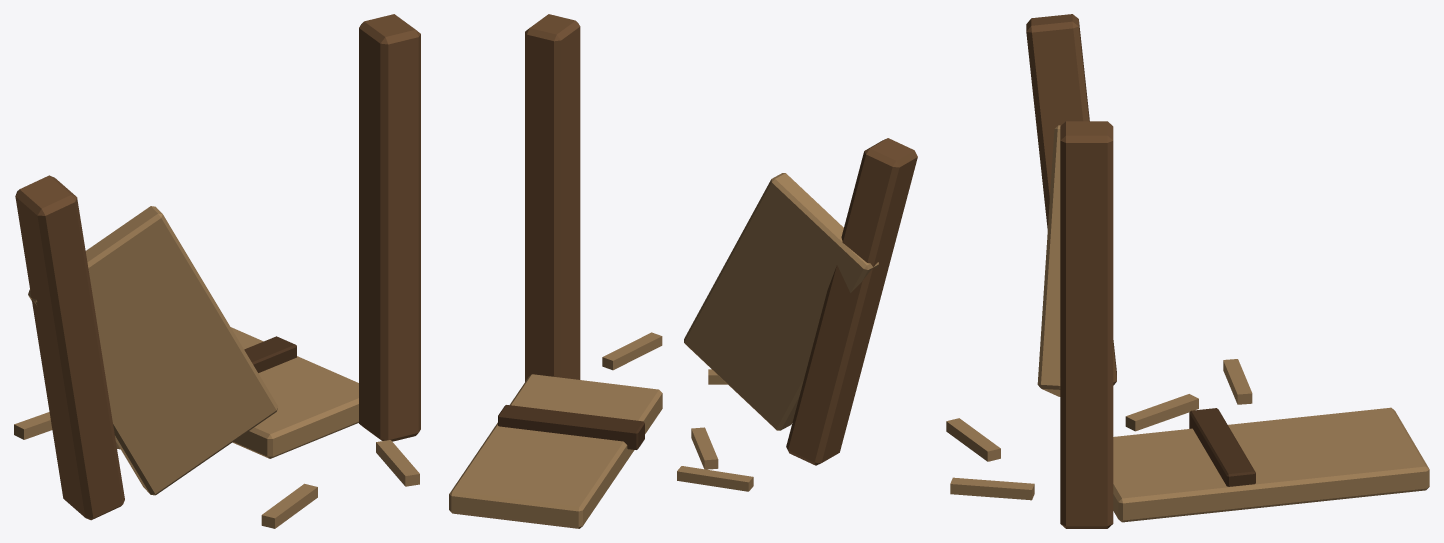
File: gate_broken.fbx
The picture shows the model from 3 angles, left to right: view 1: azimuth 30°, elevation 25°; view 2: azimuth 150°, elevation 25°; view 3: azimuth 270°, elevation 25°; orthographic projection. The views are drawn at different scales.
Visible parts, largest first — view 1: Prop; view 2: Prop; view 3: Prop.
Boxes of the visible parts, x1,y1,x2,y2 form: Prop: [14, 14, 420, 528]; Prop: [449, 14, 917, 528]; Prop: [946, 14, 1429, 528].
Bounding box in the file's own units: 1.19 × 1.28 × 1.17.
